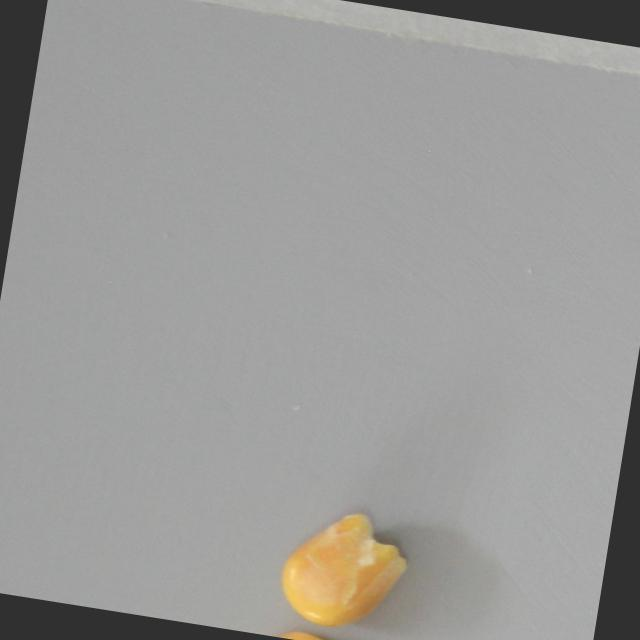dañado: (268, 494, 422, 640)
